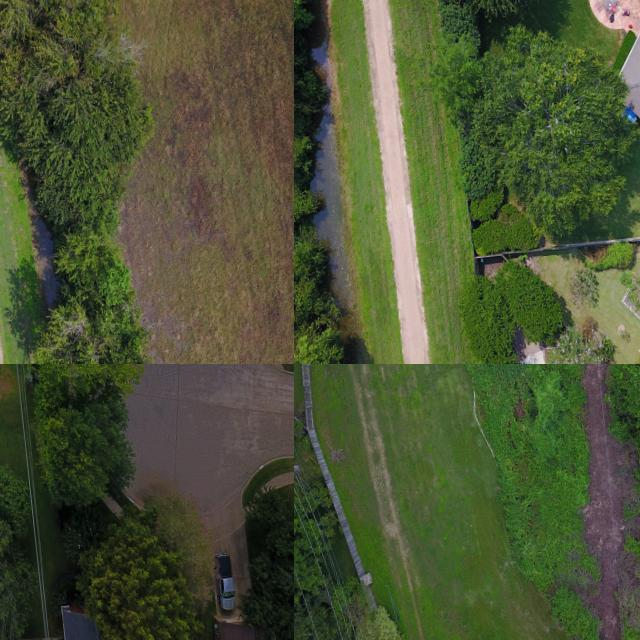fire: (311, 103, 353, 309)
